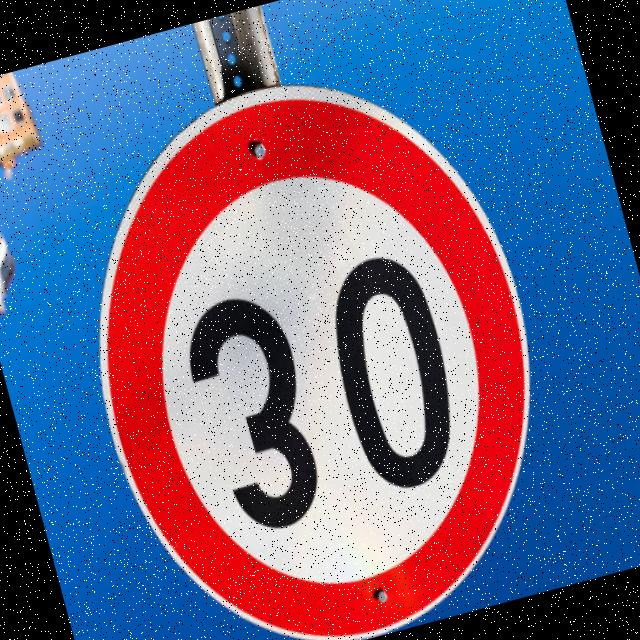speed_limit_30: (24, 29, 594, 640)
